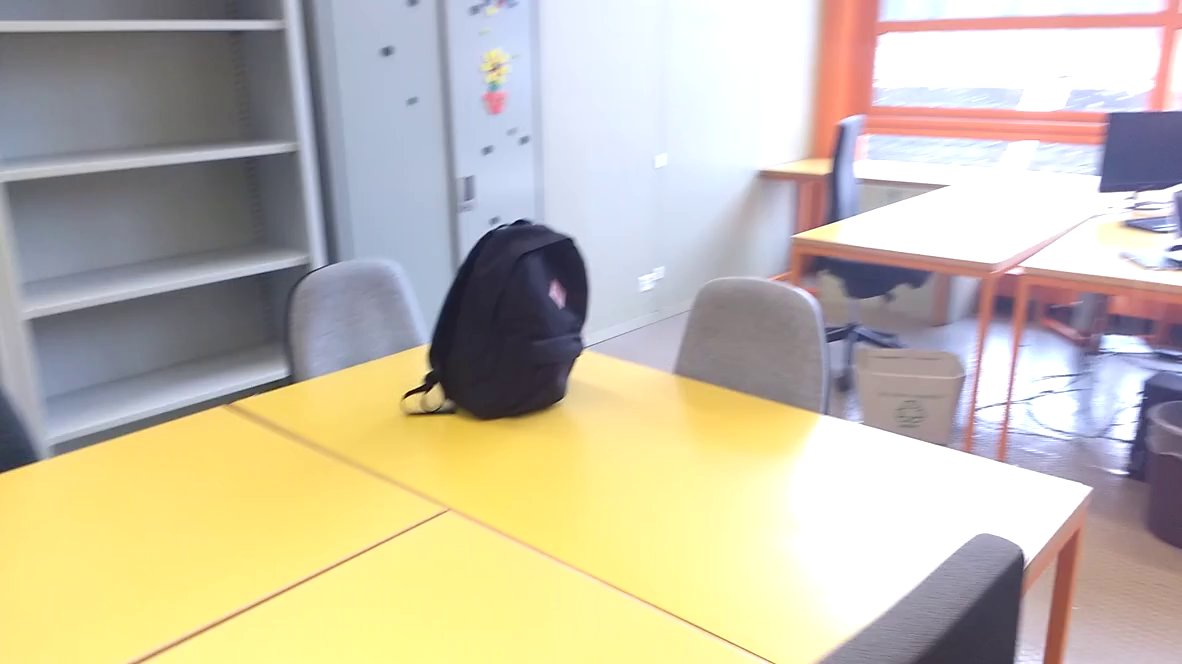bag: (396, 212, 597, 429)
box: (845, 335, 973, 460)
chair: (798, 111, 925, 396), (661, 271, 862, 435), (277, 235, 434, 385)
